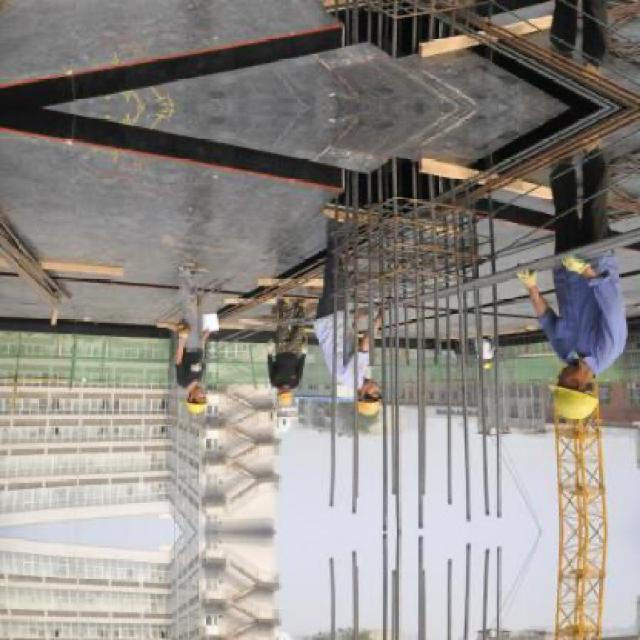con casco: (529, 354, 640, 446), (326, 371, 406, 428), (259, 382, 316, 428), (166, 375, 217, 418)
